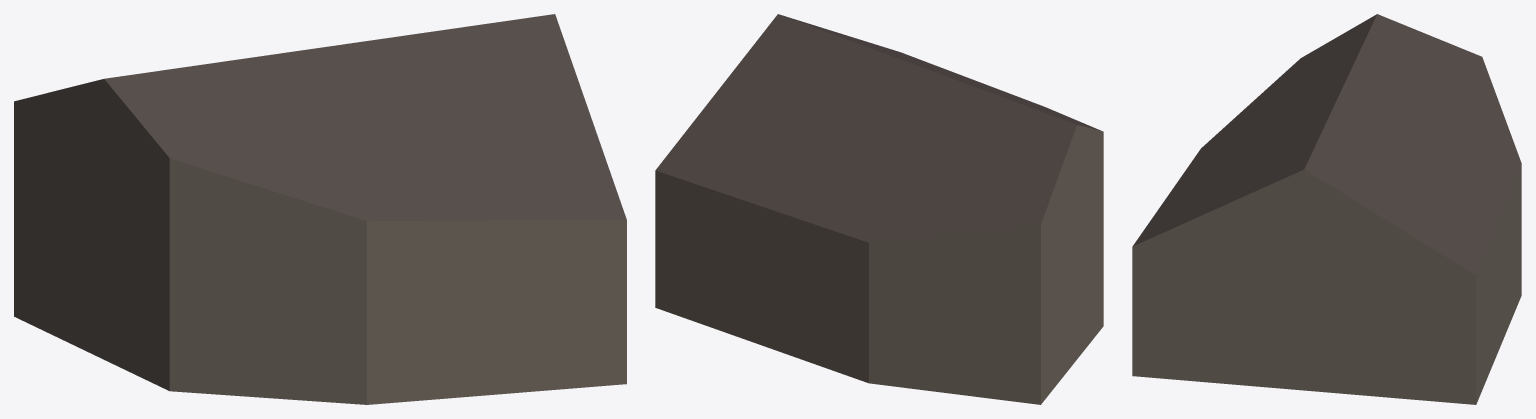
3 views of the same model, side by side, from view 1: azimuth 30°, elevation 25°; view 2: azimuth 150°, elevation 25°; view 3: azimuth 270°, elevation 25° (orthographic). The views are drawn at different scales.
Parts seen in each view (by area): view 1: HP-w859082532; view 2: HP-w859082532; view 3: HP-w859082532.
Part boxes in pixels (<box>): HP-w859082532: <box>14,14,626,404</box>; HP-w859082532: <box>655,14,1103,404</box>; HP-w859082532: <box>1132,14,1521,404</box>.
Size of the model in its own units: 17.77 by 10.25 by 16.35.
